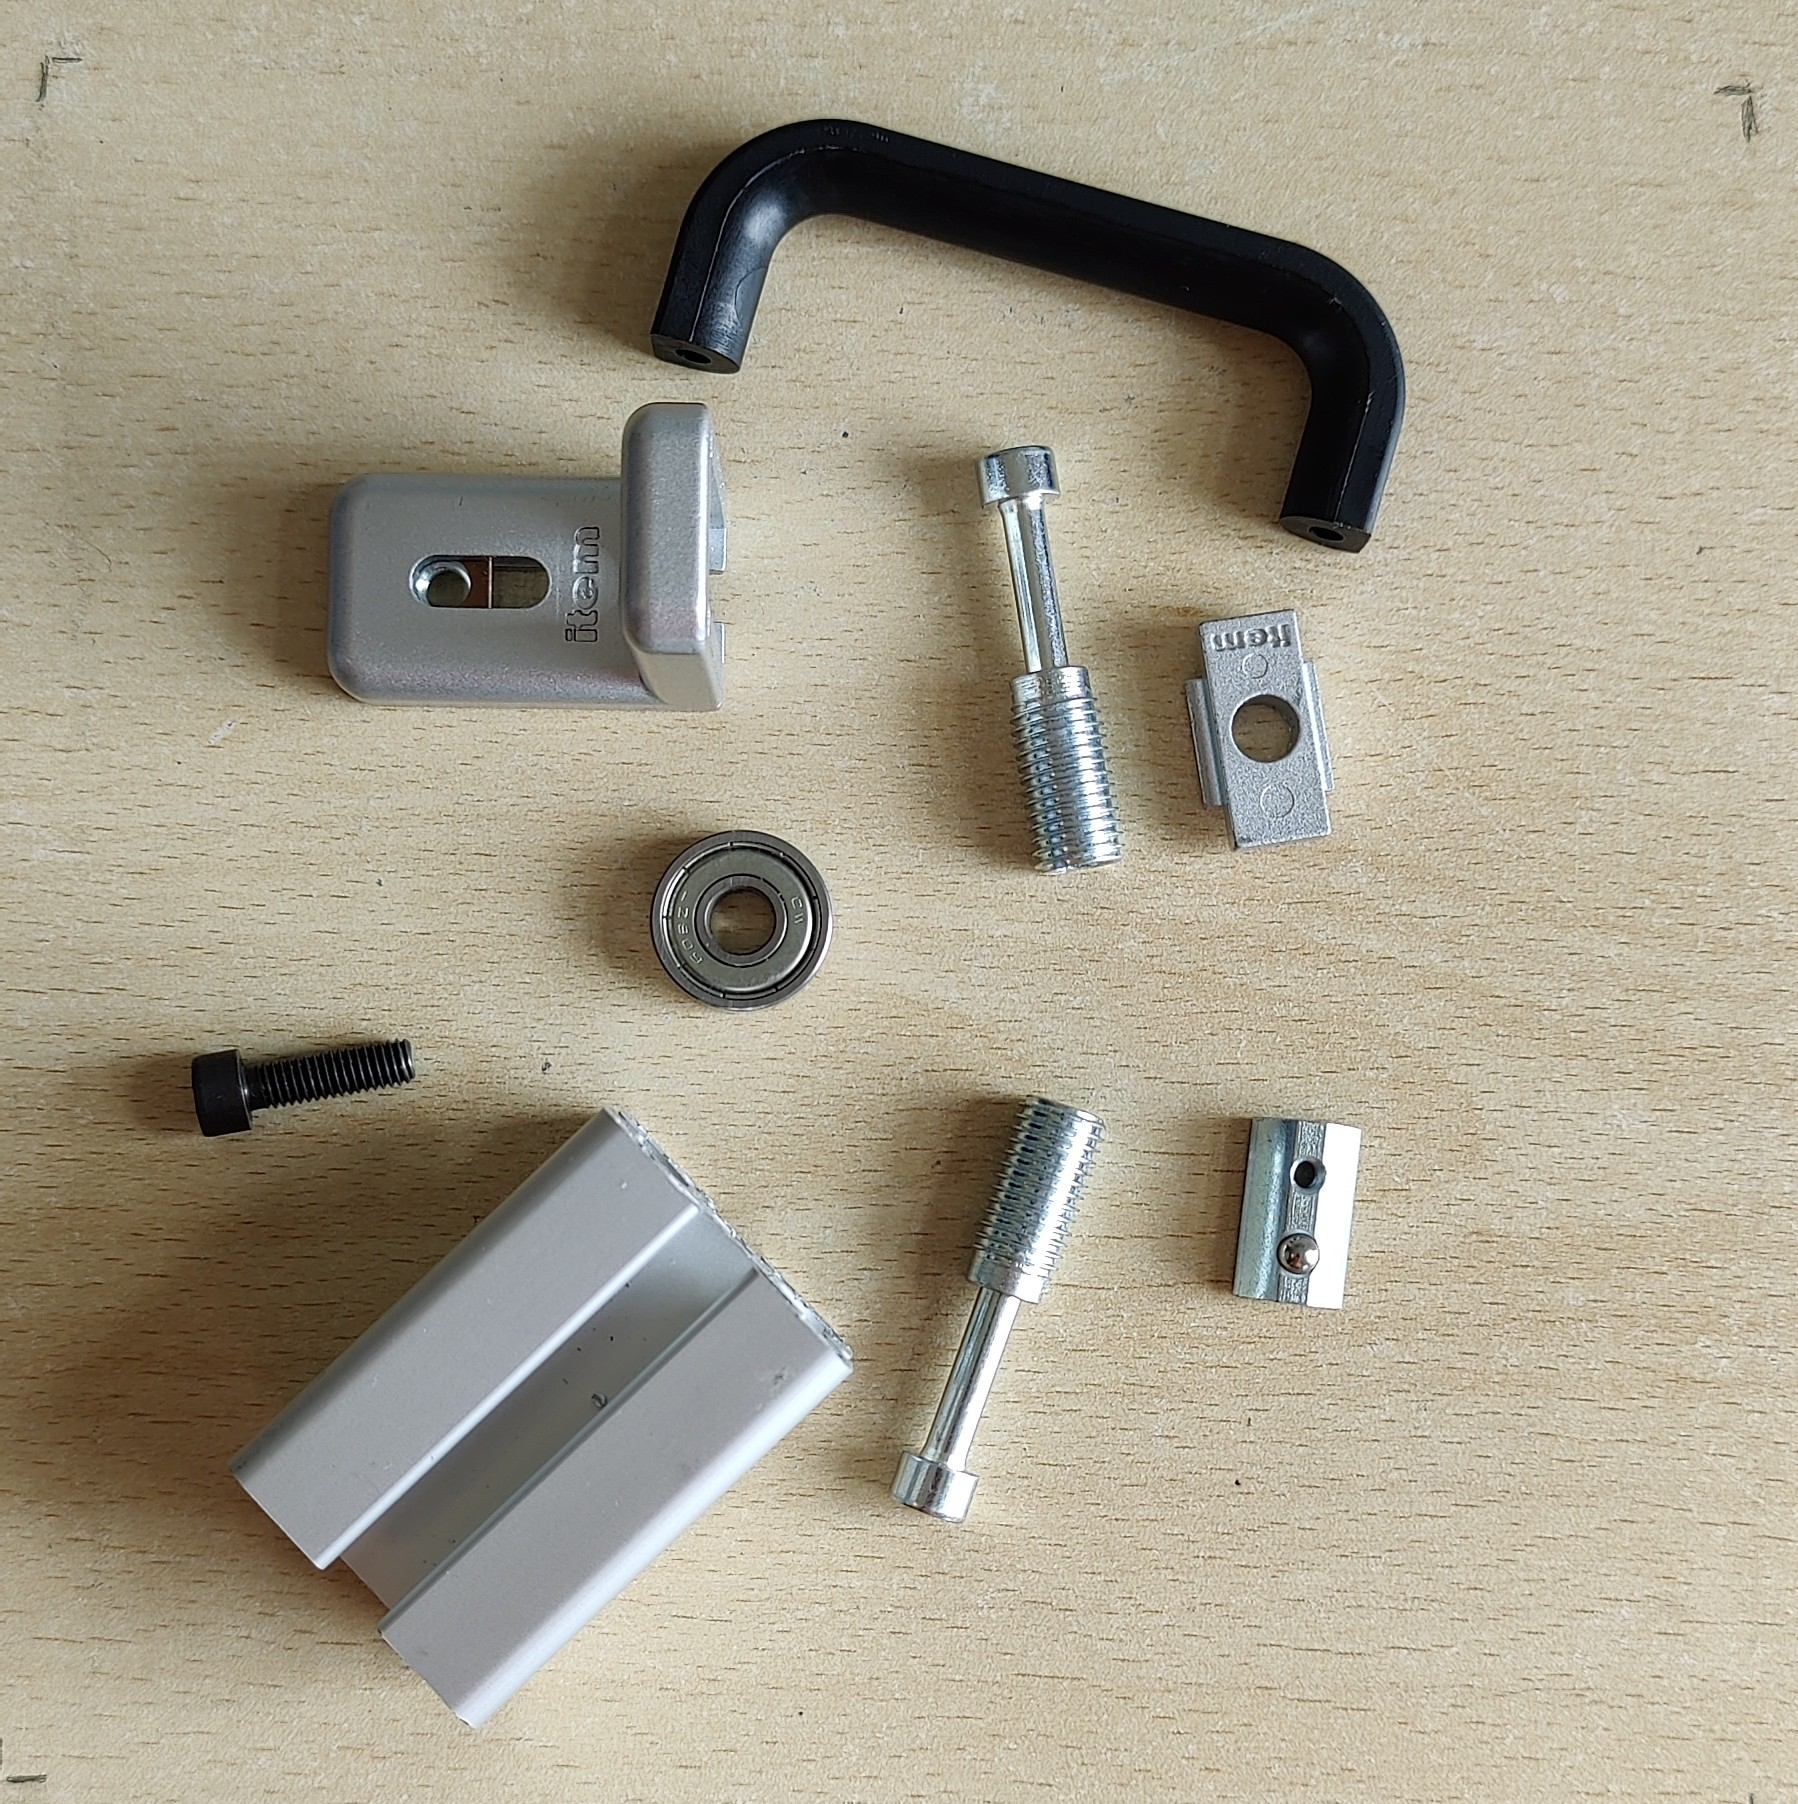Aluminium Extension: (224, 1106, 856, 1735)
Ball Bearing: (649, 828, 836, 1012)
Multiwinkel: (321, 400, 733, 718)
Pull Handle: (649, 115, 1408, 556)
Shoulder Socket Head Cap Screw: (886, 1093, 1105, 1526), (973, 439, 1126, 877)
Socket Head Cap Screw: (189, 1035, 418, 1141)
T Nut Square: (1182, 602, 1339, 854)
T Spring Nut: (1228, 1113, 1367, 1313)
